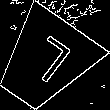L_SW: (17, 32, 73, 92)
